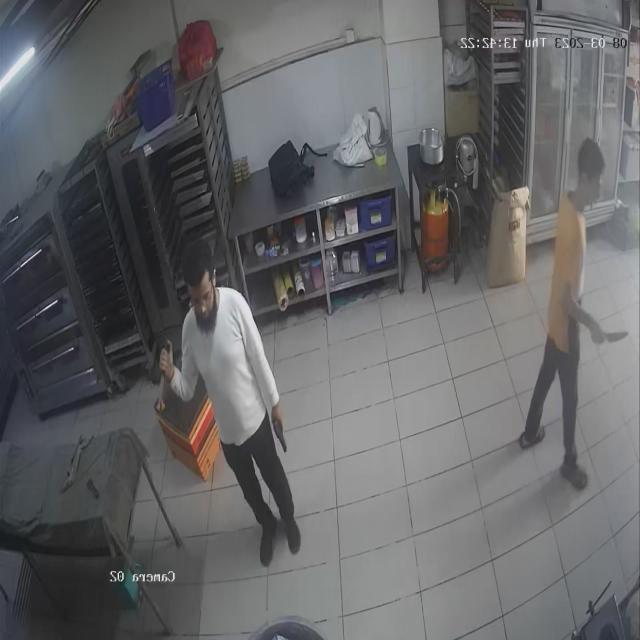Gun: (264, 408, 299, 459)
Knife: (603, 320, 635, 360)
